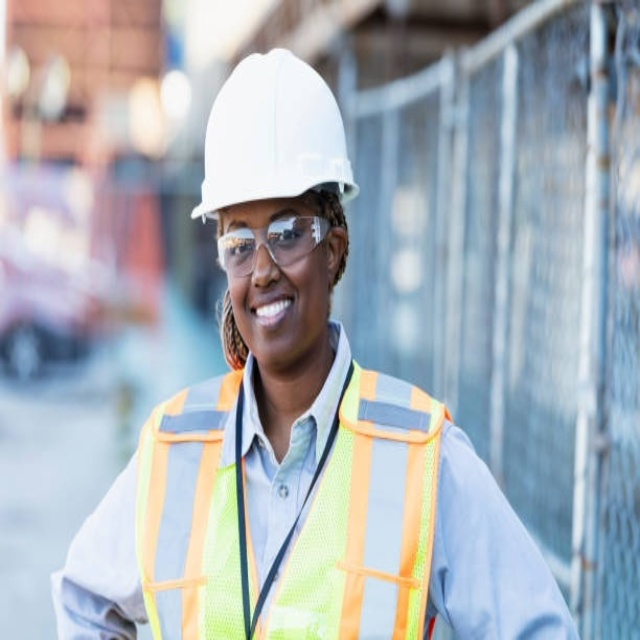Gafas: (216, 213, 331, 276)
Sin_mascara: (242, 289, 297, 350)
